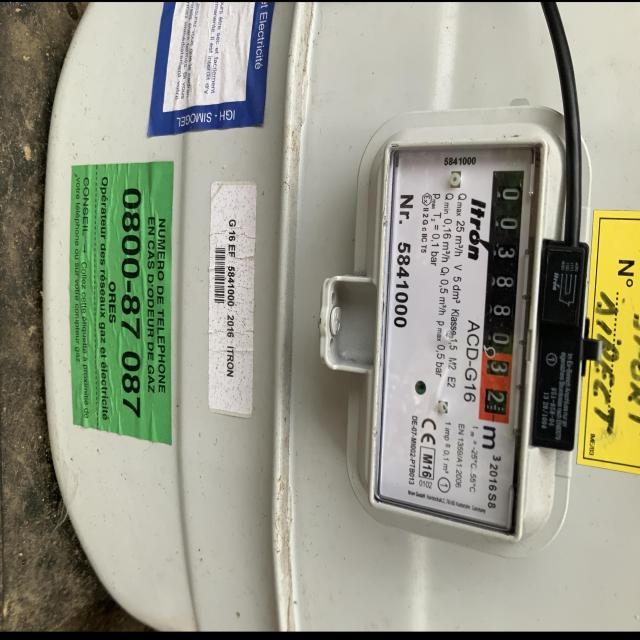gaz_meter: (377, 148, 541, 534)
indication: (476, 169, 525, 427)
